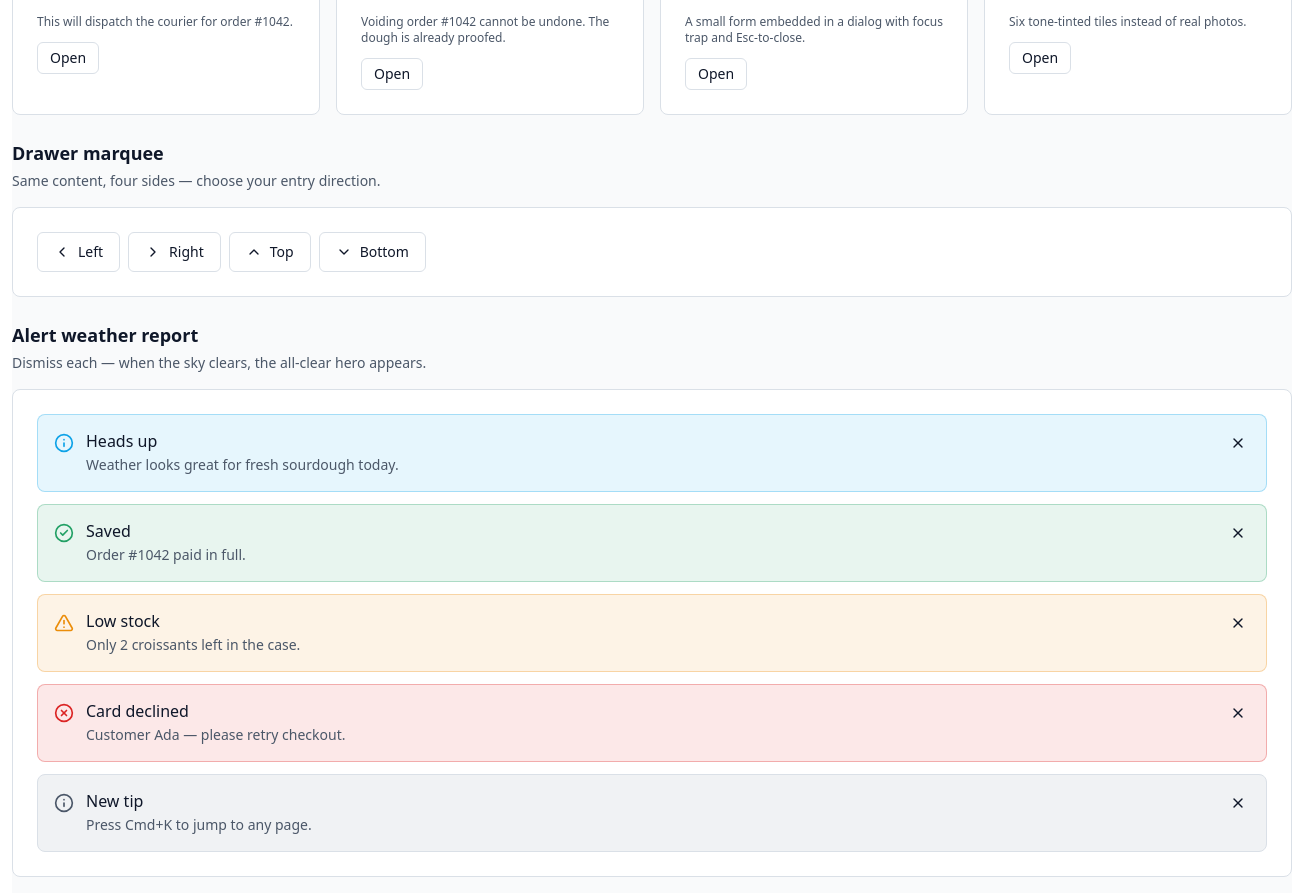
FeedbackTheaterPage › dismisses an alert and removes it from the list
(page scrolled)
Click the button named "Dismiss" in the row of "Heads up". click: (1238, 443)
box: [1222,427,1254,459]
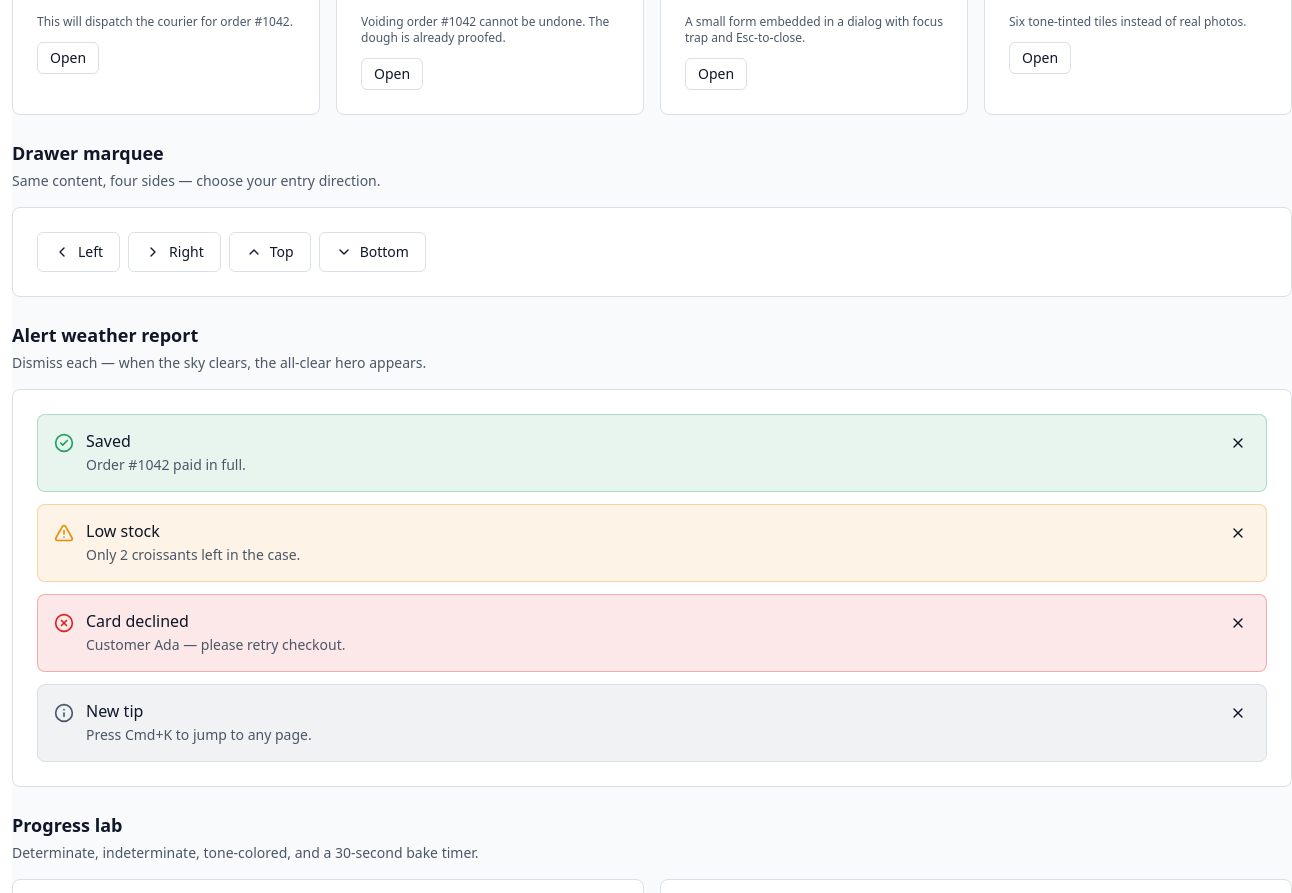
Expected: the number of buttons named "Dismiss" is 4, [1222,427,1254,459]; [1222,517,1254,549]; [1222,607,1254,639]; [1222,697,1254,729]
